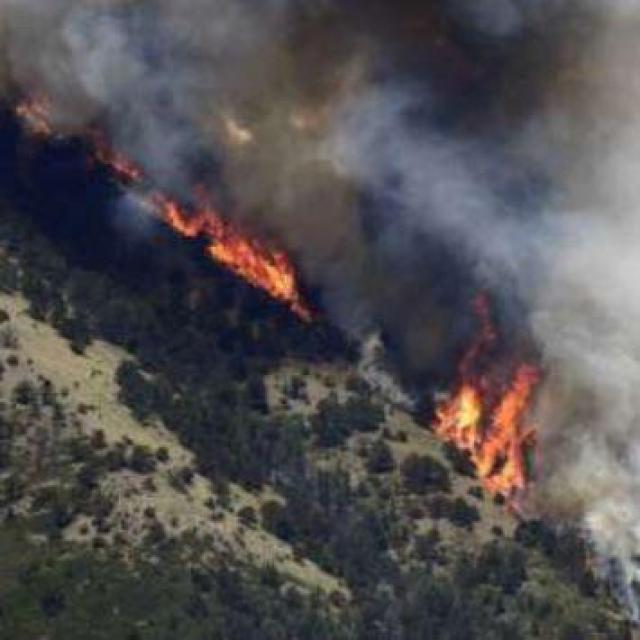Fire: (433, 402, 533, 487), (227, 219, 294, 301), (454, 366, 539, 421), (173, 193, 213, 251)
Smoke: (315, 0, 640, 279)
